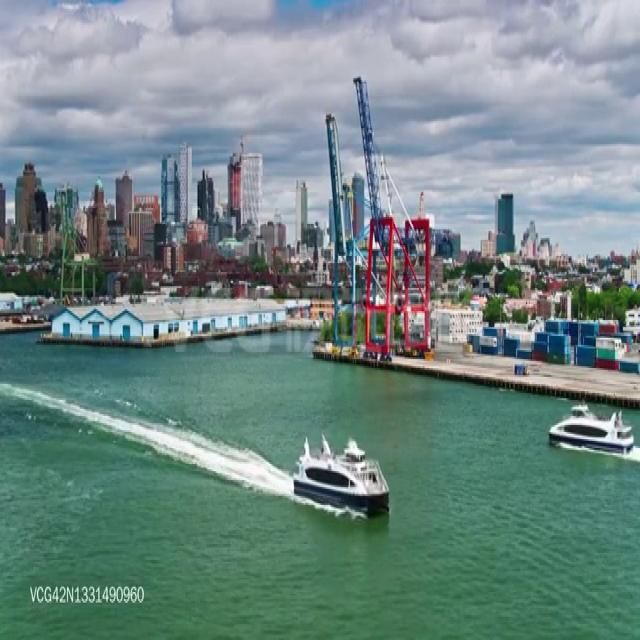houseboat: (291, 430, 394, 510), (546, 398, 638, 452)
